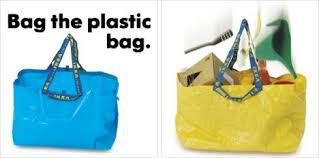Plastic: (171, 70, 310, 155), (8, 63, 121, 153)
